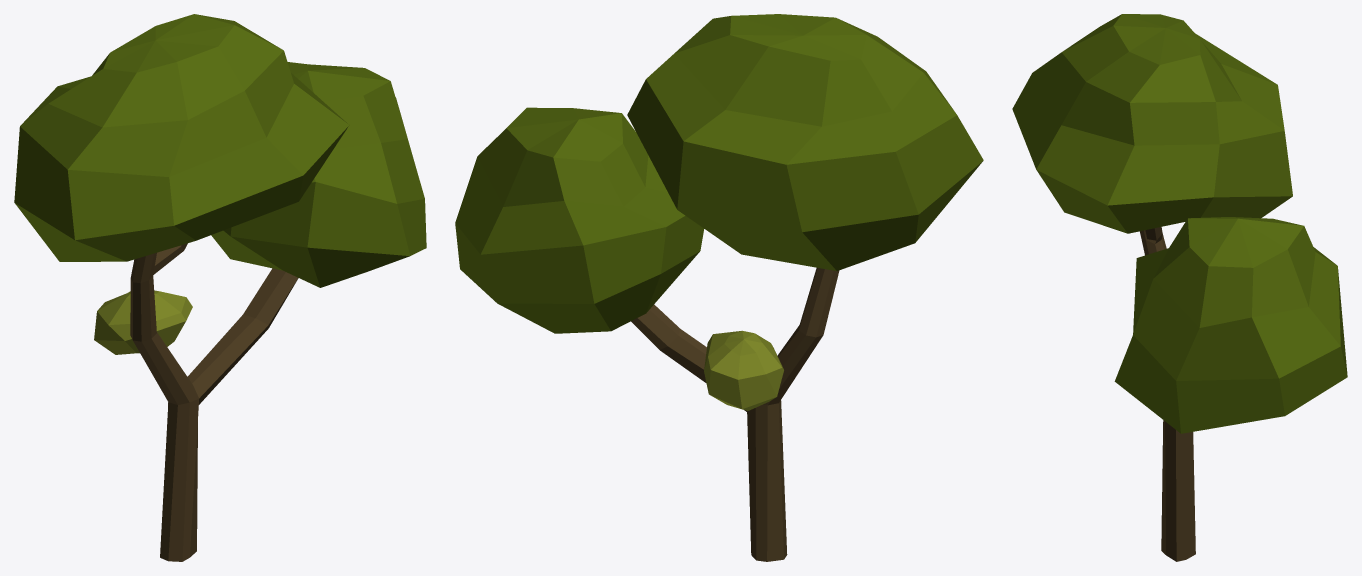
Rendered from Tree_oak_4.fbx.
3 views of the same model, side by side, from view 1: azimuth 30°, elevation 25°; view 2: azimuth 150°, elevation 25°; view 3: azimuth 270°, elevation 25° (orthographic). The views are drawn at different scales.
Parts seen in each view (by area): view 1: Tree_oak_4; view 2: Tree_oak_4; view 3: Tree_oak_4.
Part boxes in pixels (x1=…): Tree_oak_4: x1=14, y1=14, x2=426, y2=561; Tree_oak_4: x1=455, y1=14, x2=983, y2=561; Tree_oak_4: x1=1012, y1=14, x2=1347, y2=561.
Size of the model in its own units: 0.2984 by 0.3538 by 0.2102.
